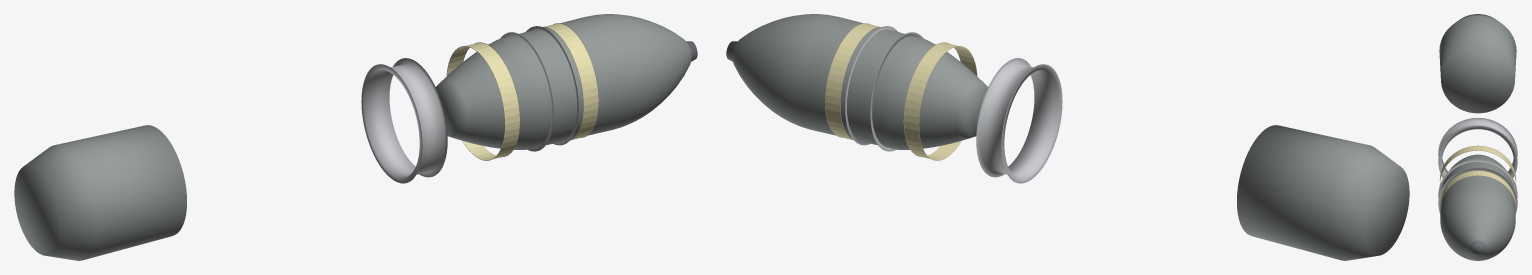
The model's file is CN_SLBM_JL2_LOD0.fbx.
3 views of the same model, side by side, from view 1: azimuth 30°, elevation 25°; view 2: azimuth 150°, elevation 25°; view 3: azimuth 270°, elevation 25° (orthographic). The views are drawn at different scales.
Parts seen in each view (by area): view 1: WPN_CN_SLBM_JL2_LOD0_Body, WPN_CN_SLBM_JL2_LOD0_Tail, WPN_CN_SLBM_JL2_LOD0_Detail, WPN_CN_SLBM_JL2_LOD0_Marking; view 2: WPN_CN_SLBM_JL2_LOD0_Body, WPN_CN_SLBM_JL2_LOD0_Tail, WPN_CN_SLBM_JL2_LOD0_Detail, WPN_CN_SLBM_JL2_LOD0_Marking; view 3: WPN_CN_SLBM_JL2_LOD0_Tail, WPN_CN_SLBM_JL2_LOD0_Body, WPN_CN_SLBM_JL2_LOD0_Detail, WPN_CN_SLBM_JL2_LOD0_Marking, WPN_CN_SLBM_JL2_LOD0_Nose.
Boxes of the visible parts, box(x1,y1,x2,y2) form: WPN_CN_SLBM_JL2_LOD0_Body: box(436, 14, 691, 149); WPN_CN_SLBM_JL2_LOD0_Tail: box(14, 125, 186, 260); WPN_CN_SLBM_JL2_LOD0_Detail: box(361, 26, 578, 183); WPN_CN_SLBM_JL2_LOD0_Marking: box(446, 23, 598, 160); WPN_CN_SLBM_JL2_LOD0_Body: box(732, 14, 987, 149); WPN_CN_SLBM_JL2_LOD0_Tail: box(1237, 125, 1409, 260); WPN_CN_SLBM_JL2_LOD0_Detail: box(845, 26, 1062, 183); WPN_CN_SLBM_JL2_LOD0_Marking: box(825, 23, 977, 160); WPN_CN_SLBM_JL2_LOD0_Tail: box(1439, 14, 1516, 113); WPN_CN_SLBM_JL2_LOD0_Body: box(1440, 154, 1515, 260); WPN_CN_SLBM_JL2_LOD0_Detail: box(1438, 118, 1517, 212); WPN_CN_SLBM_JL2_LOD0_Marking: box(1439, 145, 1516, 214); WPN_CN_SLBM_JL2_LOD0_Nose: box(1470, 240, 1485, 254).
Size of the model in its own units: 13 by 2.1 by 2.1.
